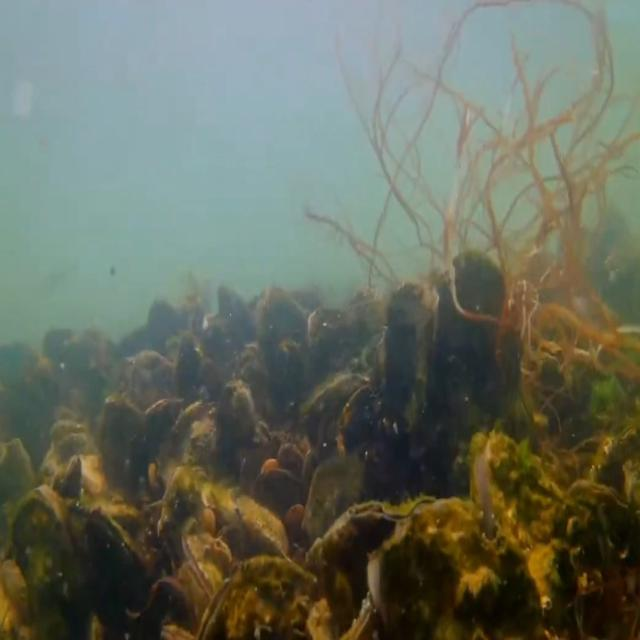Oyster-Closed: (303, 494, 437, 640), (554, 480, 640, 640), (71, 505, 159, 640), (156, 464, 211, 576), (180, 536, 225, 640), (57, 454, 83, 500)
Oyster-Indeterminate: (369, 499, 548, 640), (434, 248, 522, 440), (9, 486, 80, 640), (383, 280, 441, 440), (302, 458, 368, 558), (100, 394, 149, 506), (0, 439, 37, 550), (234, 496, 293, 562)
Oyster-Open: (469, 430, 568, 640), (302, 373, 378, 460), (168, 401, 220, 466)
